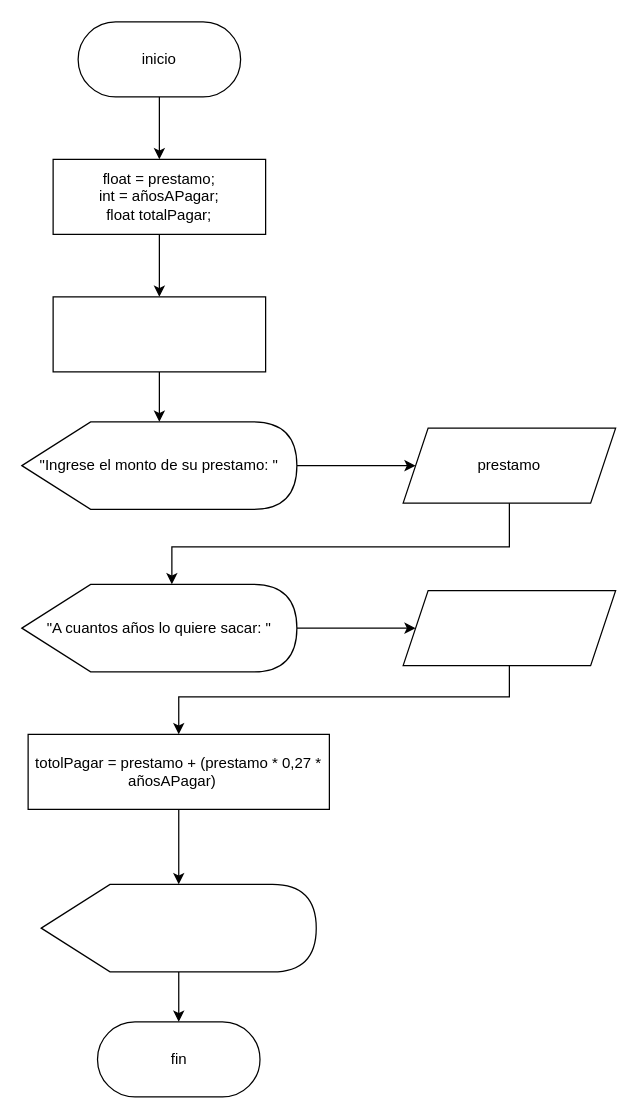
This 638x1119 diagram has some shape labels left out. Here are the shapes that lost their labels. From the top down, the centre of each, then its label:
(159,334): prestamo =0.0; añosAPagar = 0 totalPagar=0.0;
(509,627): añosAPagar
(178,927): "Su total a pagar sera: ",totalAPagar
